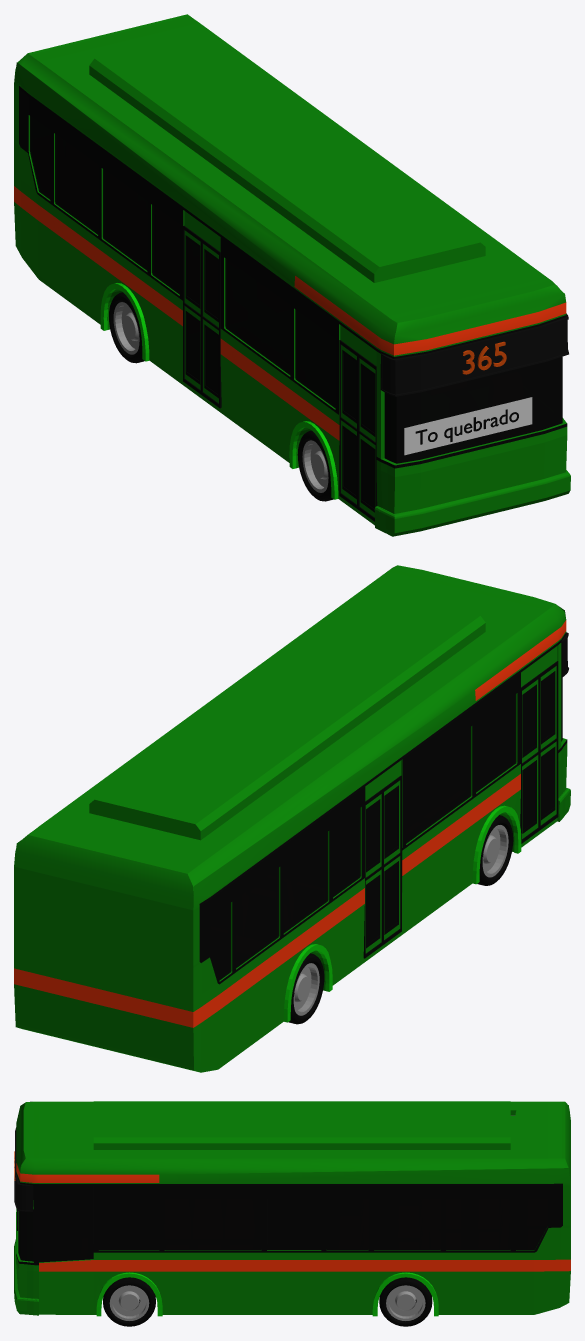
Rendered from bus_365.obj.
3 views of the same model, one above another, from view 1: azimuth 30°, elevation 25°; view 2: azimuth 150°, elevation 25°; view 3: azimuth 270°, elevation 25° (orthographic). The views are drawn at different scales.
Visible parts, largest first — view 1: Object_4_Object_0, Object_5_Object_1, Object_7_Object_3, Object_8_Object_4, Object_12_Object_8, to_quebrado_Text.002, Object_18_Object_13, Object_22_Object_16, Object_23_Object_17, Object_19_Object_14, Object_10_Object_6, Object_6_Object_2 (+3 smaller); view 2: Object_4_Object_0, Object_5_Object_1, Object_7_Object_3, Object_8_Object_4, Object_18_Object_13, Object_22_Object_16, Object_19_Object_14, Object_23_Object_17, Object_10_Object_6, Object_17_Object_12, Object_21_Object_15, Object_6_Object_2 (+1 smaller); view 3: Object_4_Object_0, Object_5_Object_1, Object_7_Object_3, Object_8_Object_4, Object_10_Object_6, Object_9_Object_5, Object_6_Object_2, Object_12_Object_8.
Boxes of the visible parts, x1=… form: Object_4_Object_0: x1=14, y1=14, x2=570, y2=536; Object_5_Object_1: x1=30, y1=116, x2=562, y2=463; Object_7_Object_3: x1=19, y1=86, x2=567, y2=468; Object_8_Object_4: x1=14, y1=186, x2=566, y2=440; Object_12_Object_8: x1=380, y1=313, x2=568, y2=396; to_quebrado_Text.002: x1=404, y1=397, x2=532, y2=455; Object_18_Object_13: x1=343, y1=354, x2=374, y2=508; Object_22_Object_16: x1=187, y1=239, x2=217, y2=393; Object_23_Object_17: x1=183, y1=226, x2=221, y2=408; Object_19_Object_14: x1=339, y1=340, x2=377, y2=521; Object_10_Object_6: x1=113, y1=302, x2=328, y2=492; Object_6_Object_2: x1=100, y1=283, x2=338, y2=499; Object_4_Object_0: x1=14, y1=565, x2=570, y2=1072; Object_5_Object_1: x1=210, y1=677, x2=562, y2=980; Object_7_Object_3: x1=199, y1=633, x2=567, y2=984; Object_8_Object_4: x1=14, y1=620, x2=566, y2=1027; Object_18_Object_13: x1=523, y1=675, x2=554, y2=829; Object_22_Object_16: x1=366, y1=789, x2=397, y2=944; Object_19_Object_14: x1=520, y1=661, x2=558, y2=843; Object_23_Object_17: x1=363, y1=775, x2=401, y2=958; Object_10_Object_6: x1=293, y1=825, x2=508, y2=1015; Object_17_Object_12: x1=521, y1=646, x2=557, y2=838; Object_21_Object_15: x1=365, y1=760, x2=400, y2=953; Object_6_Object_2: x1=284, y1=805, x2=521, y2=1022; Object_4_Object_0: x1=14, y1=1101, x2=570, y2=1315; Object_5_Object_1: x1=18, y1=1186, x2=547, y2=1262; Object_7_Object_3: x1=16, y1=1172, x2=562, y2=1265; Object_8_Object_4: x1=16, y1=1163, x2=570, y2=1271; Object_10_Object_6: x1=109, y1=1285, x2=425, y2=1320; Object_9_Object_5: x1=103, y1=1277, x2=432, y2=1326; Object_6_Object_2: x1=96, y1=1272, x2=438, y2=1316; Object_12_Object_8: x1=14, y1=1127, x2=33, y2=1211.
Size of the model in its own units: 2.01 by 2.45 by 7.02.
